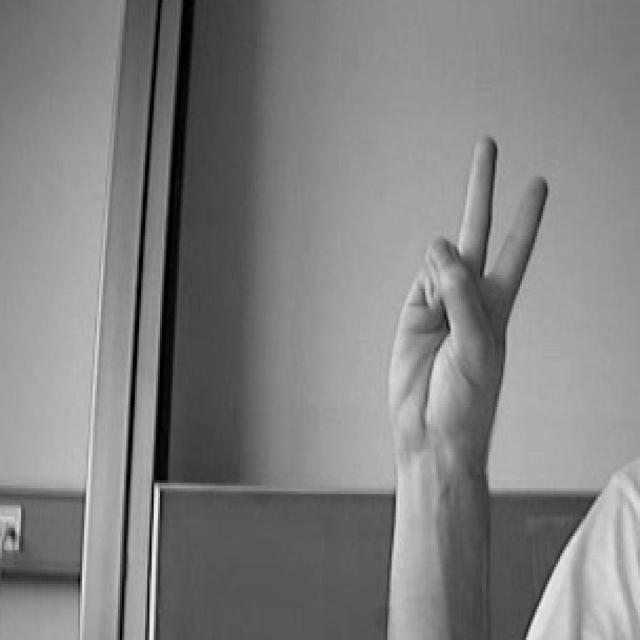V: (378, 121, 560, 483)
